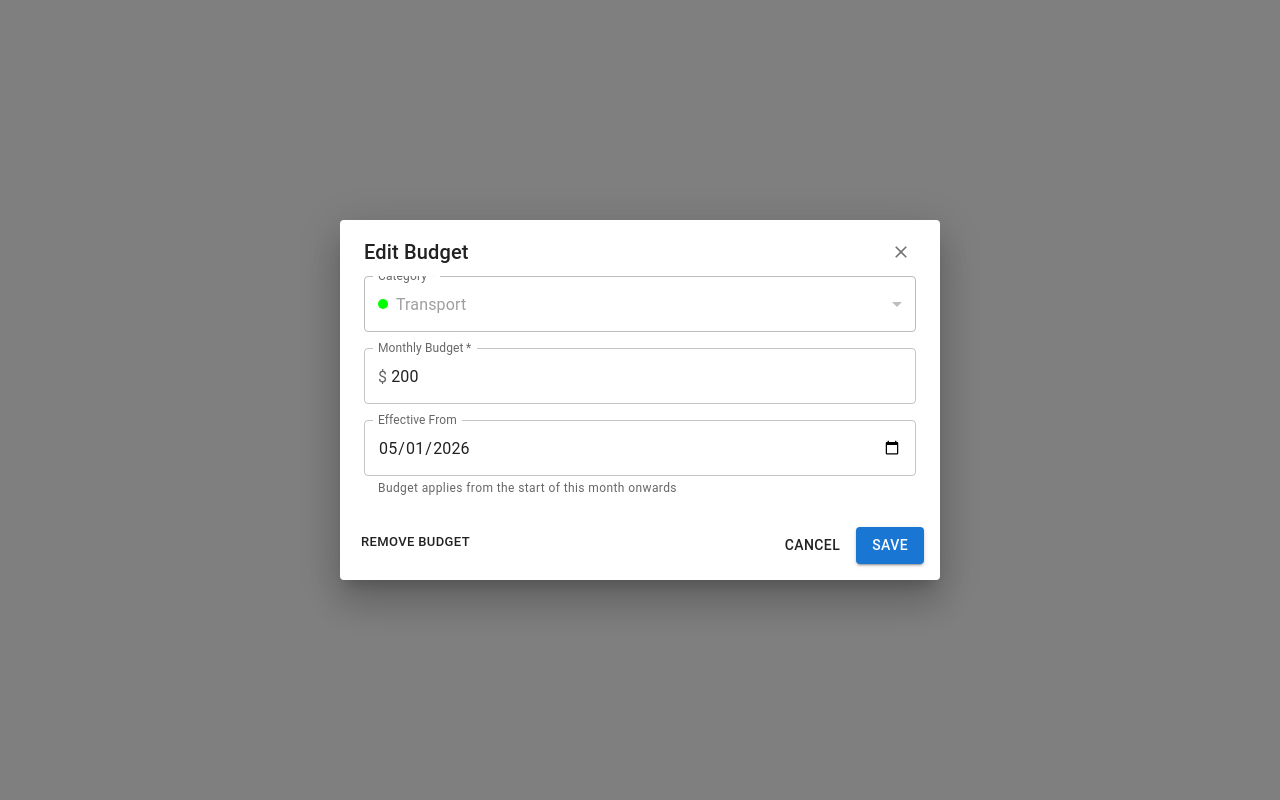
Test: BudgetForm — edit mode › first delete click shows "Confirm Delete"
The image size is (1280, 800).
Click the button "Remove Budget": (415, 543) [356,527,475,558]
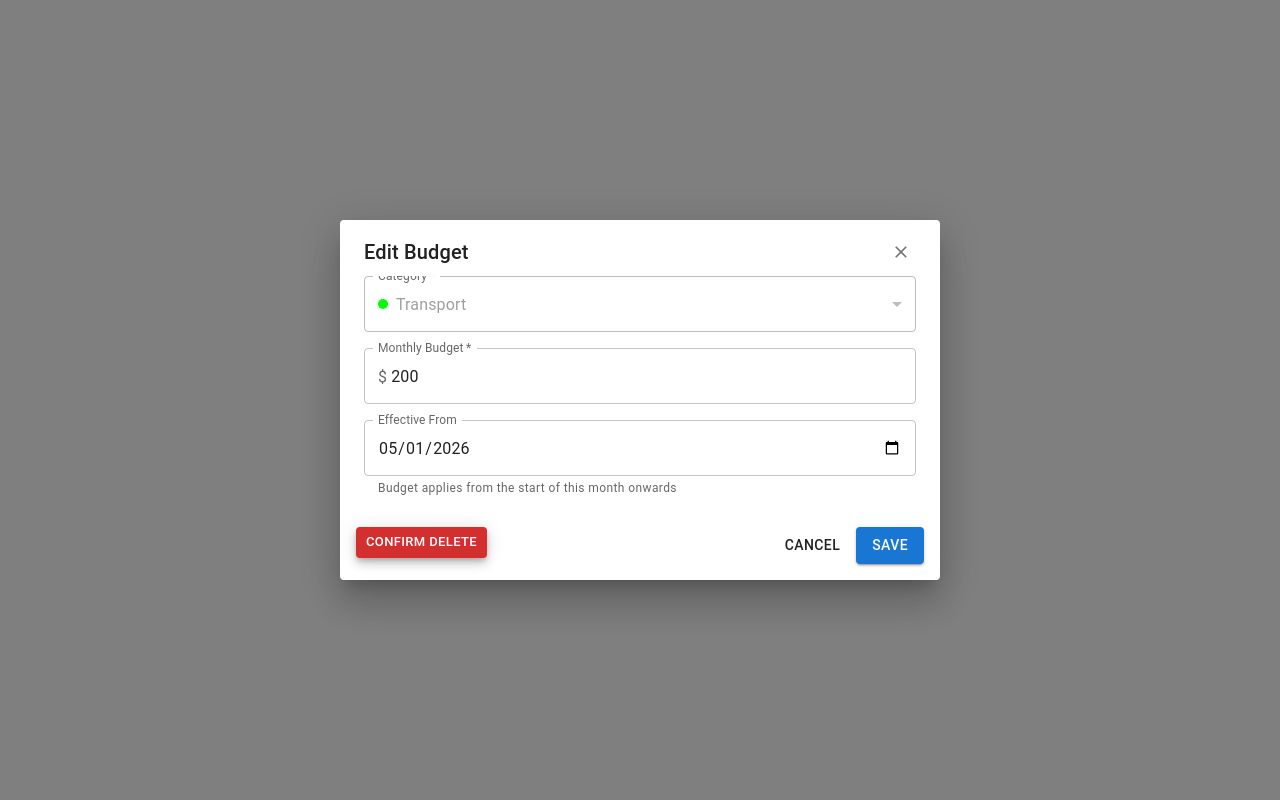
Now the button "Confirm Delete" is shown, box [356,527,487,558]
